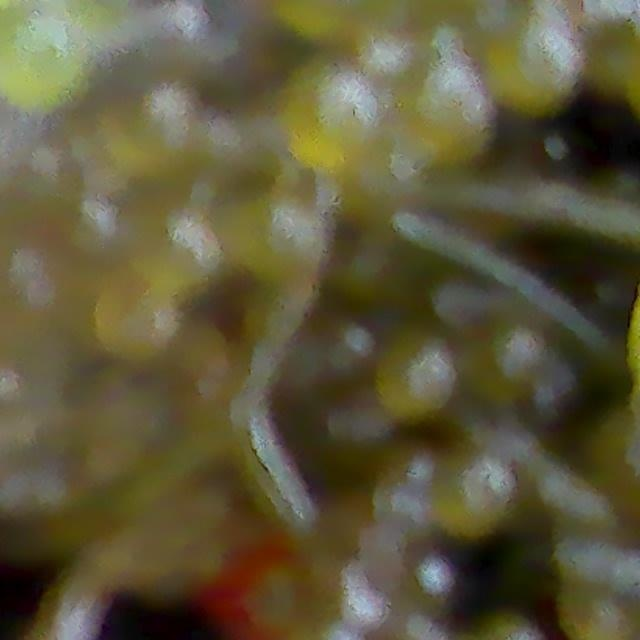SeaGrape: (102, 76, 201, 184), (280, 63, 386, 161), (486, 12, 578, 116), (410, 54, 491, 165), (371, 335, 461, 423), (0, 8, 80, 107), (130, 206, 218, 296), (233, 198, 323, 278), (236, 558, 318, 640), (93, 287, 180, 362), (434, 462, 508, 534)
